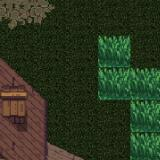Obstacle: (0, 100, 98, 160)
Slow: (130, 67, 160, 160), (98, 37, 131, 100)
